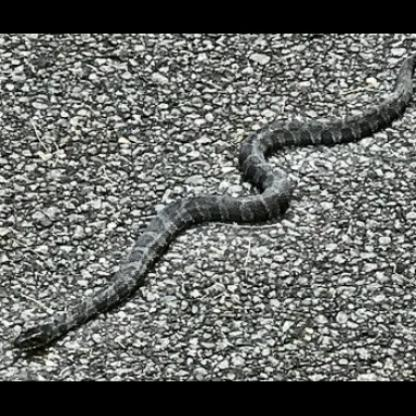Snake: (0, 66, 416, 348)
